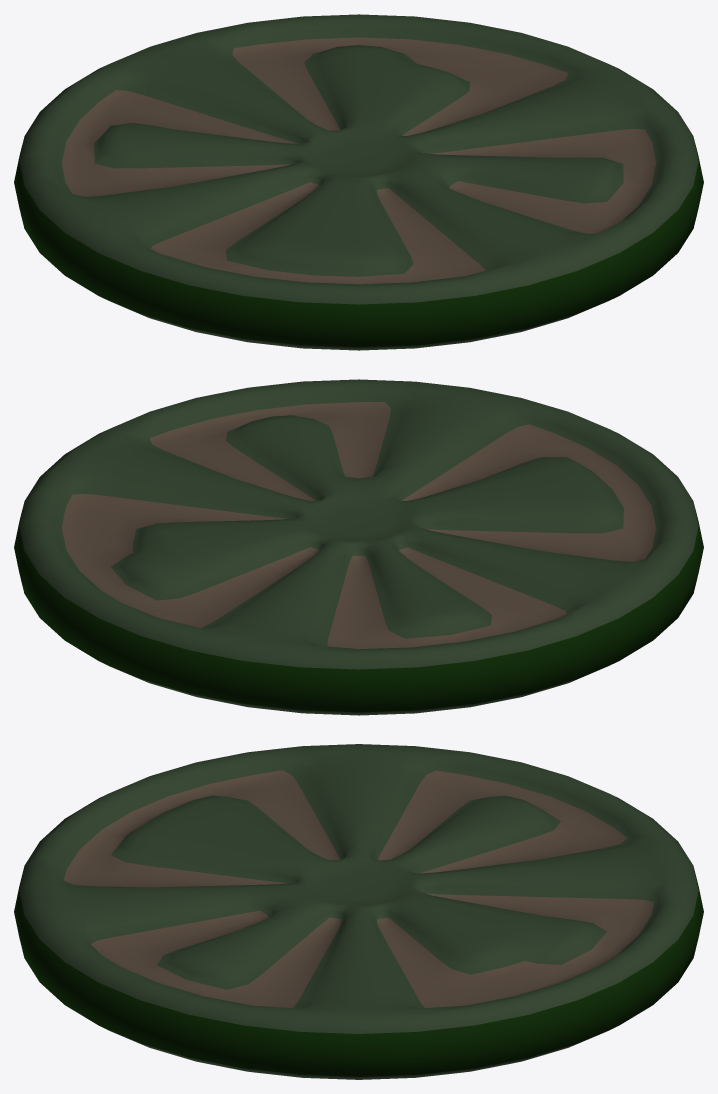
The model's file is tomatoesMOLDY.fbx.
The picture shows the model from 3 angles, top to bottom: view 1: azimuth 30°, elevation 25°; view 2: azimuth 150°, elevation 25°; view 3: azimuth 270°, elevation 25°; orthographic projection.
Parts seen in each view (by area): view 1: Circle; view 2: Circle; view 3: Circle.
Part boxes in pixels (x1,y1,x2,y2): Circle: (14,14,703,350); Circle: (14,379,703,715); Circle: (14,744,703,1079).
Bounding box in the file's own units: 195 × 20.01 × 195.
